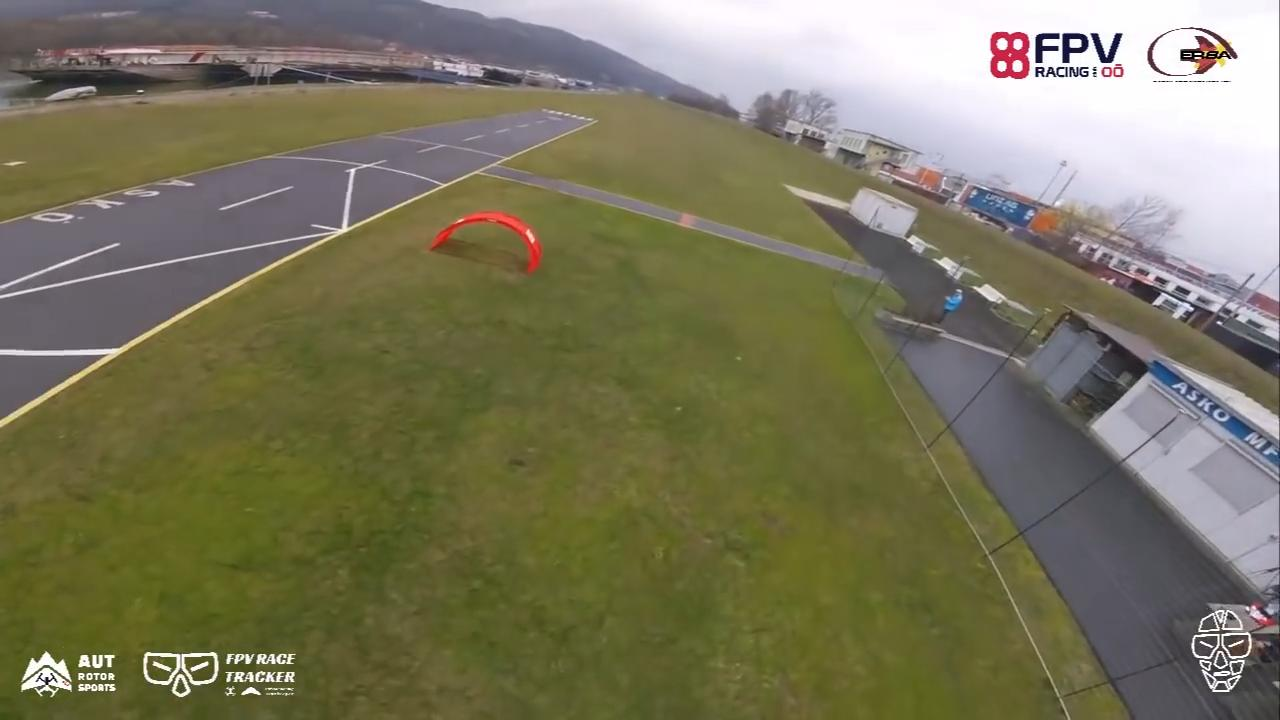gate: (425, 210, 543, 276)
